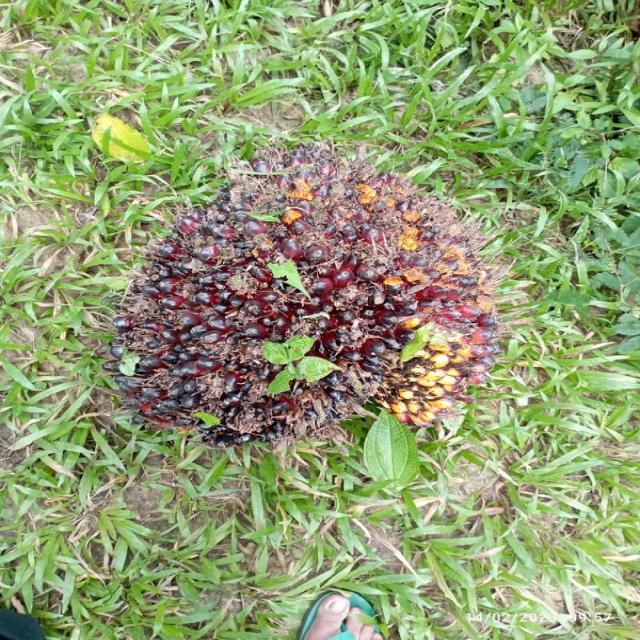fraksi 1: (102, 158, 498, 445)
